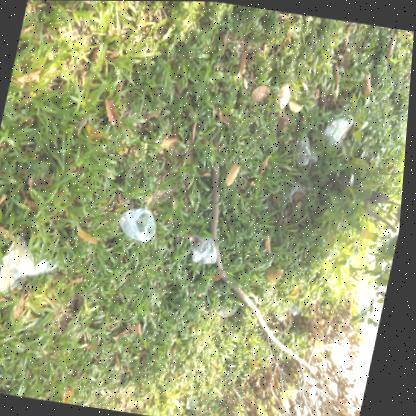Plastic: (2, 234, 62, 292), (123, 207, 159, 241), (324, 114, 356, 147), (193, 233, 221, 262), (300, 134, 320, 163), (290, 180, 313, 202), (282, 298, 304, 319), (221, 301, 243, 316), (280, 82, 291, 108), (193, 395, 203, 408), (215, 413, 221, 416)
